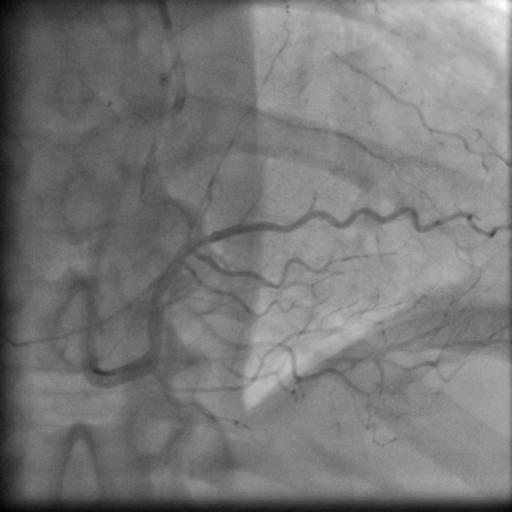Stenosis: (194, 230, 217, 252)
